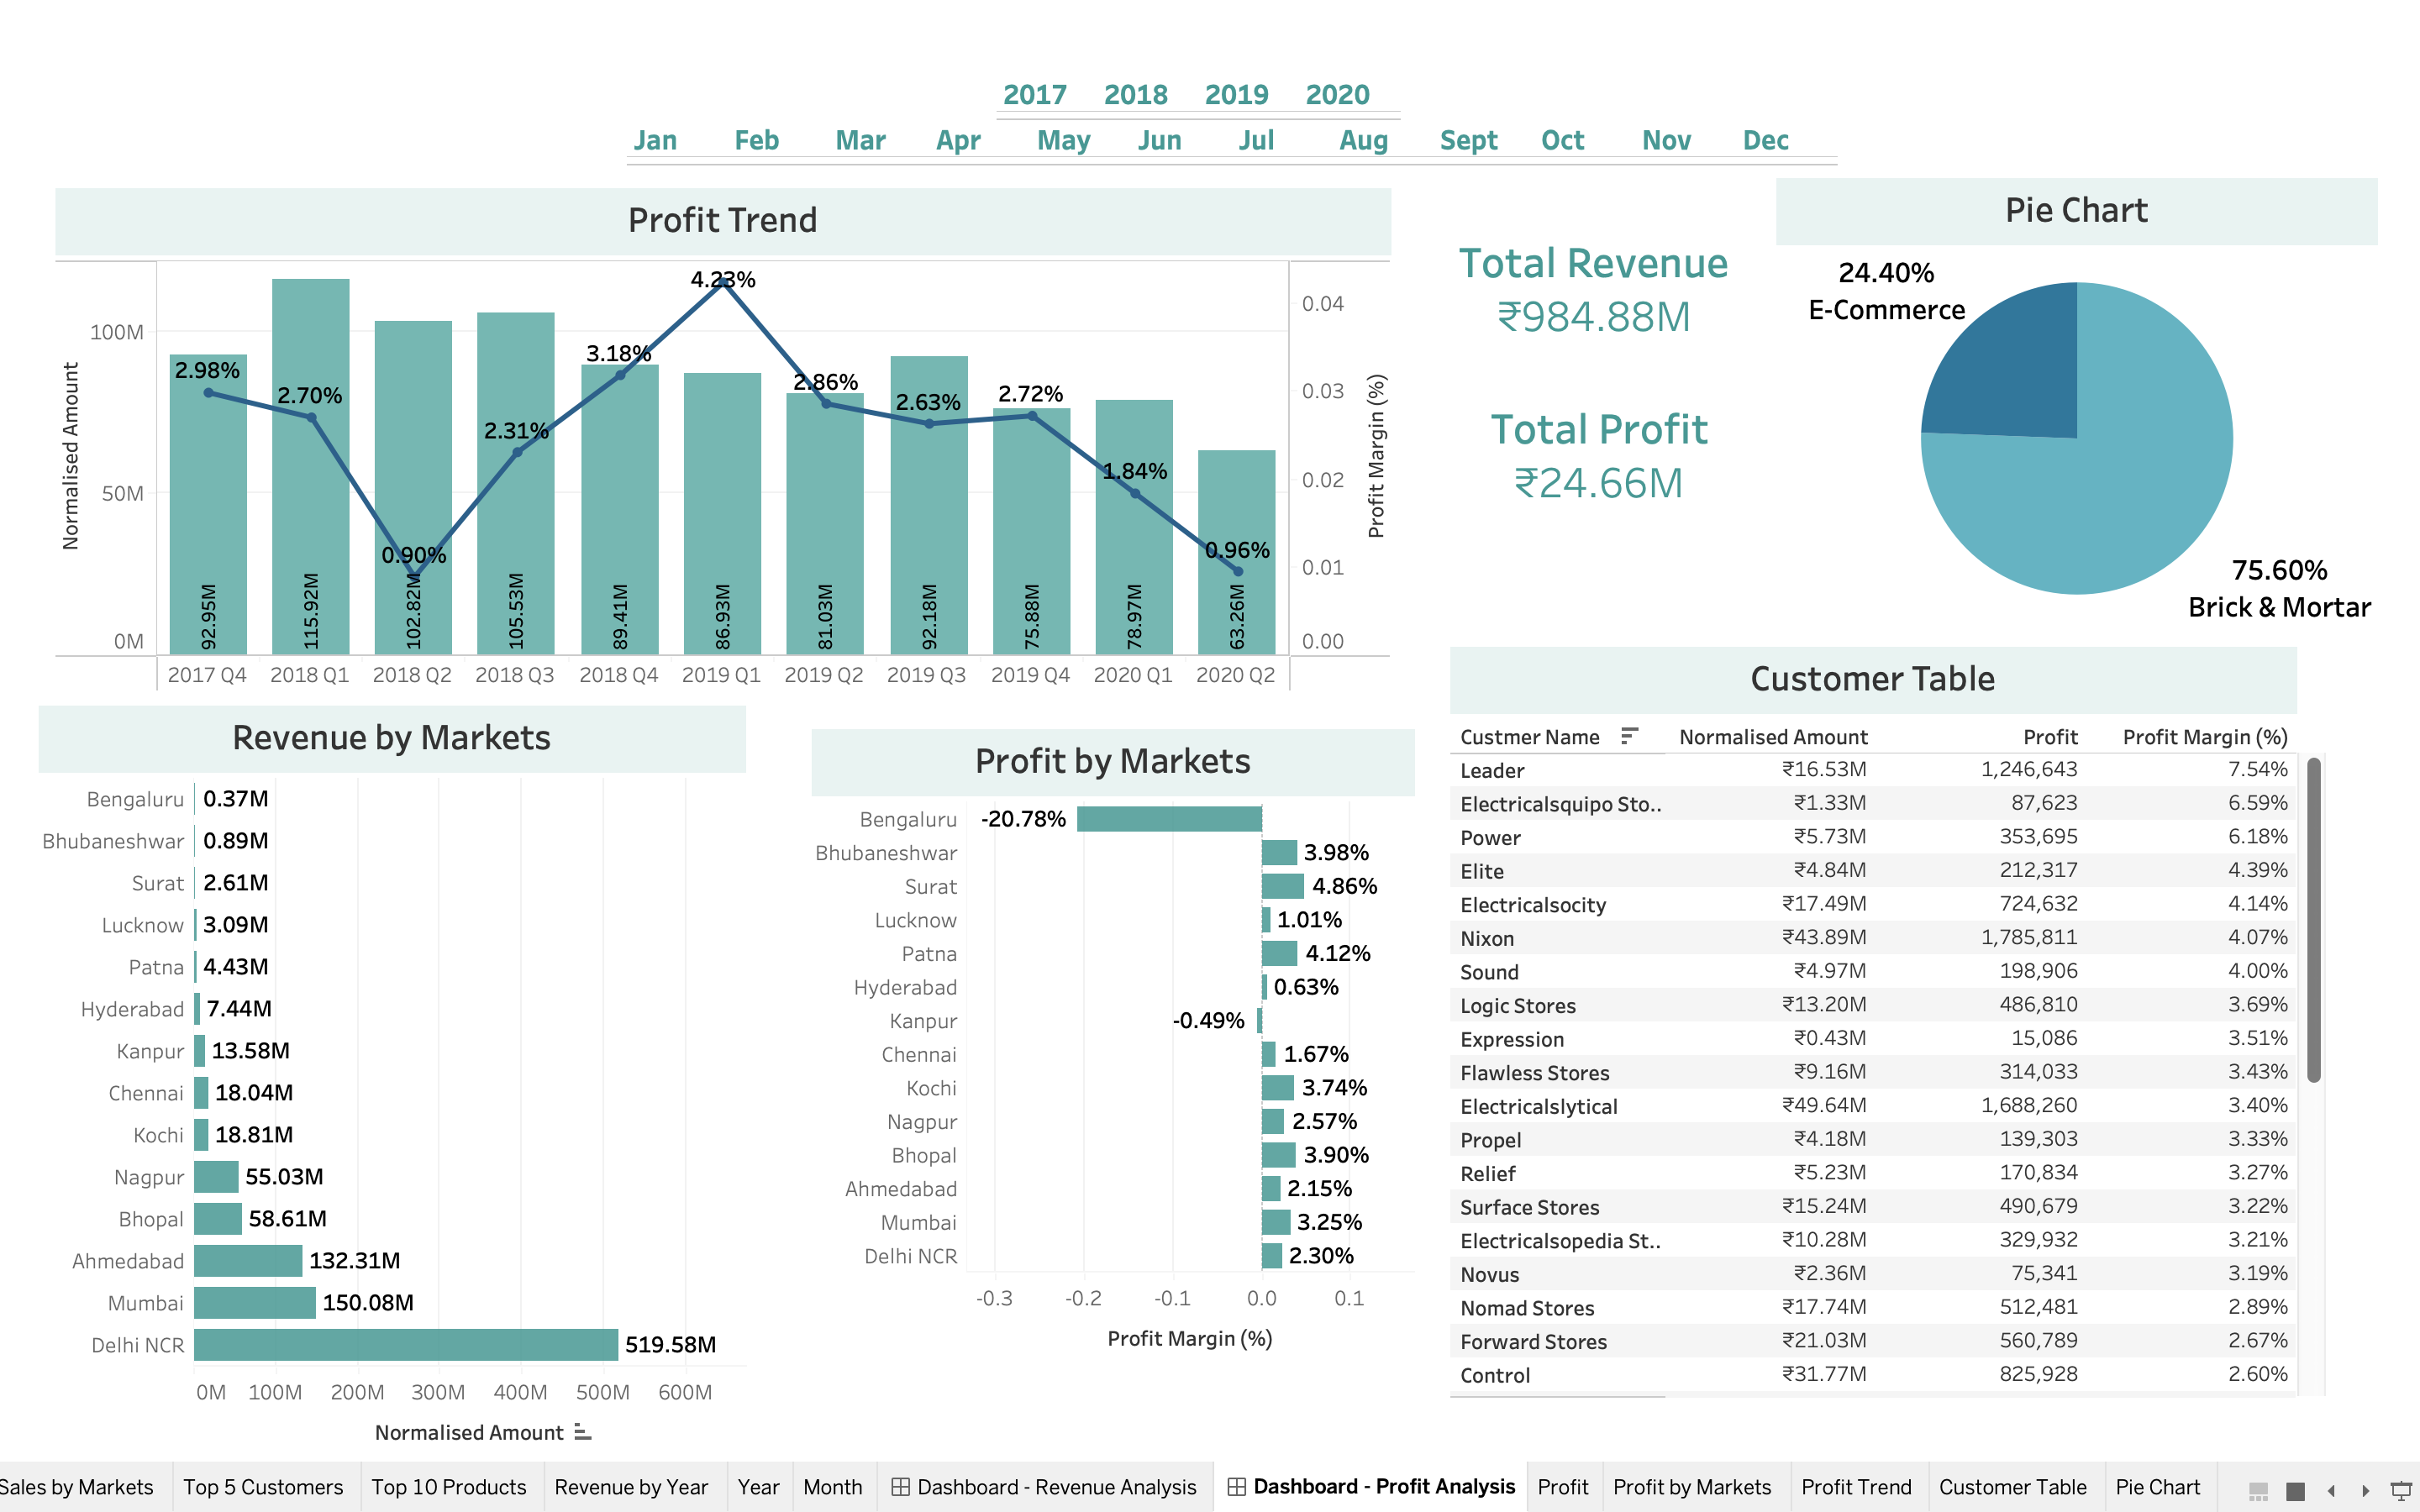

This screenshot's page, from the dashboard's own definition file:
{"tool":"tableau","page":{"name":"Dashboard - Profit Analysis","canvas":[1400,800],"ordinal":0},"visuals":[{"type":"worksheet","title":"Year","mark":"Automatic","cols":["cy_date"],"box":[573,11,251,30]},{"type":"worksheet","title":"Month","mark":"Automatic","cols":["cy_date"],"box":[353,38,798,37]},{"type":"worksheet","title":"Pie Chart","mark":"Pie","box":[1037,71,358,267]},{"type":"worksheet","title":"Profit Trend","mark":"Bar","rows":["Calculation_741756994980962304","Calculation_1268748521591902208"],"cols":["cy_date"],"box":[13,77,795,301]},{"type":"worksheet","title":"Revenue","mark":"Automatic","box":[829,102,200,76]},{"type":"worksheet","title":"Profit","mark":"Automatic","box":[862,203,143,71]},{"type":"worksheet","title":"Customer Table","mark":"Automatic","rows":["custmer_name"],"box":[843,350,539,447]},{"type":"worksheet","title":"Profit by Markets","mark":"Automatic","rows":["markets_name"],"cols":["Calculation_1268748521591902208"],"box":[463,399,359,396]}]}

Visuals, with their boxes on the page's 1400x800 design canvas (x1, y1, x2, y2). These are canvas units, not pixel positions in the 2420x1512 screenshot, which may show the page scaled, cropped or inside an application window:
"Year" worksheet: bbox=[573, 11, 824, 41]
"Month" worksheet: bbox=[353, 38, 1151, 75]
"Pie Chart" worksheet (Pie marks): bbox=[1037, 71, 1395, 338]
"Profit Trend" worksheet (Bar marks): bbox=[13, 77, 808, 378]
"Revenue" worksheet: bbox=[829, 102, 1029, 178]
"Profit" worksheet: bbox=[862, 203, 1005, 274]
"Customer Table" worksheet: bbox=[843, 350, 1382, 797]
"Profit by Markets" worksheet: bbox=[463, 399, 822, 795]
